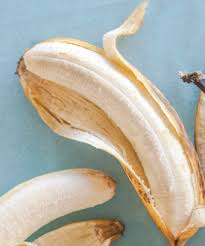banana: (14, 28, 205, 230), (19, 14, 179, 145), (112, 119, 201, 246), (1, 164, 121, 241)
